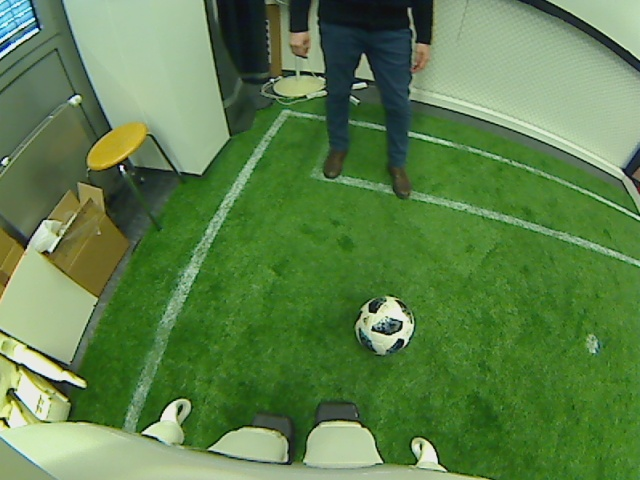ball: (353, 292, 416, 357)
